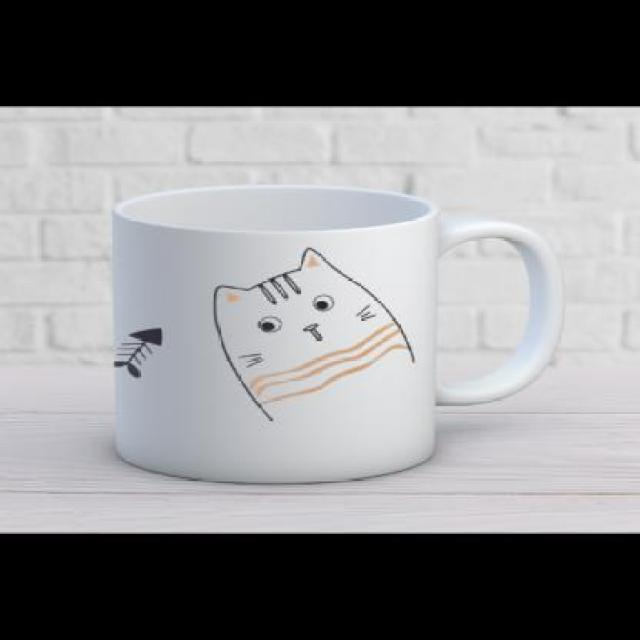taza: (109, 187, 564, 488)
